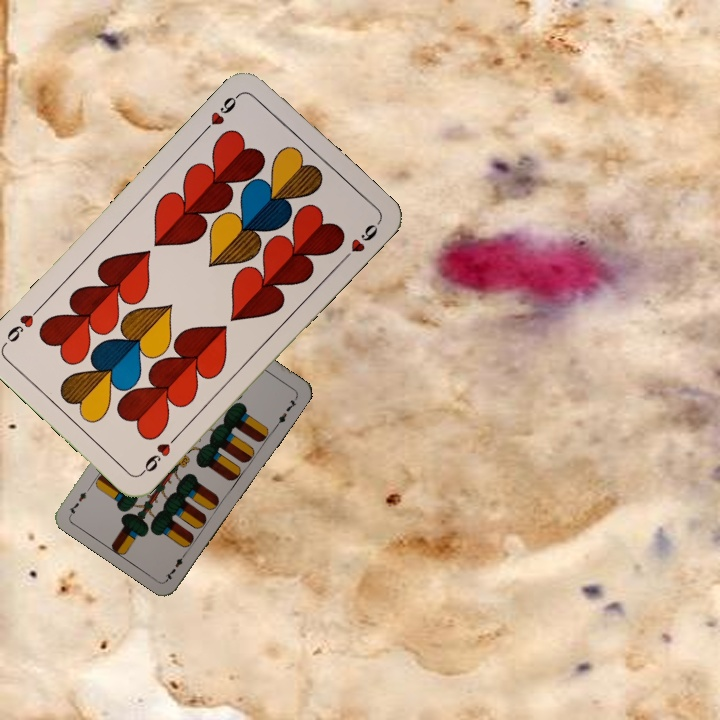E7: (161, 547, 190, 582)
H9: (137, 430, 182, 477), (198, 89, 243, 136)
